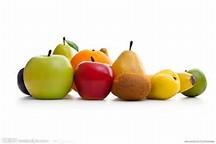apple: (30, 53, 72, 98), (77, 62, 112, 101)
